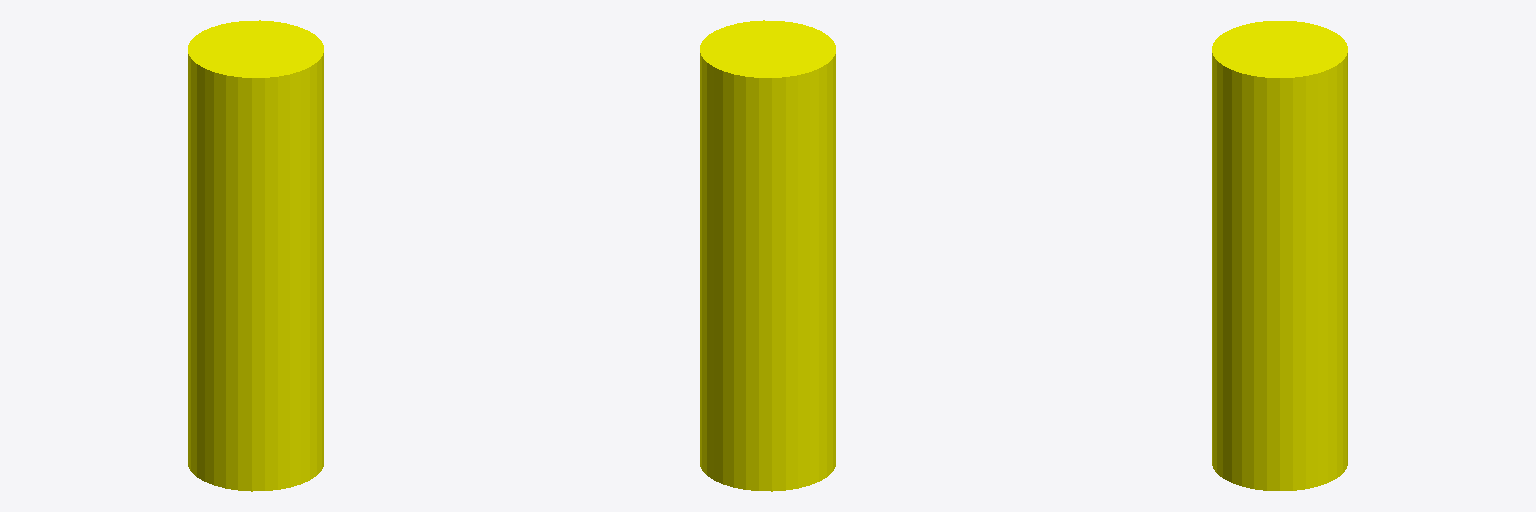
URDF robot description (yellow_cylinder):
<?xml version="1.0" ?>
<robot name="yellow_cylinder" xmlns:xacro="http://ros.org/wiki/xacro">
  <link name="base_link">
    <inertial>
      <origin rpy="0.0 0.0 0.0" xyz="0.0 0.0 0.0"/>
      <mass value="0.1"/>
      <inertia ixx="4.166666666666668e-05" ixy="0.0" ixz="0.0" iyy="4.166666666666668e-05" iyz="0.0" izz="4.166666666666668e-05"/>
    </inertial>
    <visual>
      <origin rpy="0.0 0.0 0.0" xyz="0.0 0.0 0.1"/>
      <geometry>
        <cylinder length="0.2" radius="0.03"/>
      </geometry>
      <material name="yellow">
        <color rgba="1 1 0 1"/>
      </material>
    </visual>
    <collision>
      <origin rpy="0.0 0.0 0.0" xyz="0.0 0.0 0.1"/>
      <geometry>
        <cylinder length="0.2" radius="0.03"/>
      </geometry>
    </collision>
  </link>
</robot>

--- Facts derived from the render (not from the file) ---
Views: 3 orthographic renders of the robot side by side, from view 1: azimuth 30°, elevation 25°; view 2: azimuth 150°, elevation 25°; view 3: azimuth 270°, elevation 25°.
Robot: yellow_cylinder — 1 links, 0 joints (none); root link base_link; default pose: every joint at zero.
Visible links, largest first — view 1: base_link; view 2: base_link; view 3: base_link.
Boxes of the visible links, x1=… form: base_link: x1=188, y1=20, x2=323, y2=491; base_link: x1=700, y1=20, x2=835, y2=491; base_link: x1=1212, y1=21, x2=1347, y2=490.
Size in the robot's own frame: 0.06 by 0.06 by 0.2 metres.
Geometry: primitives only (box / cylinder / sphere), no mesh files.